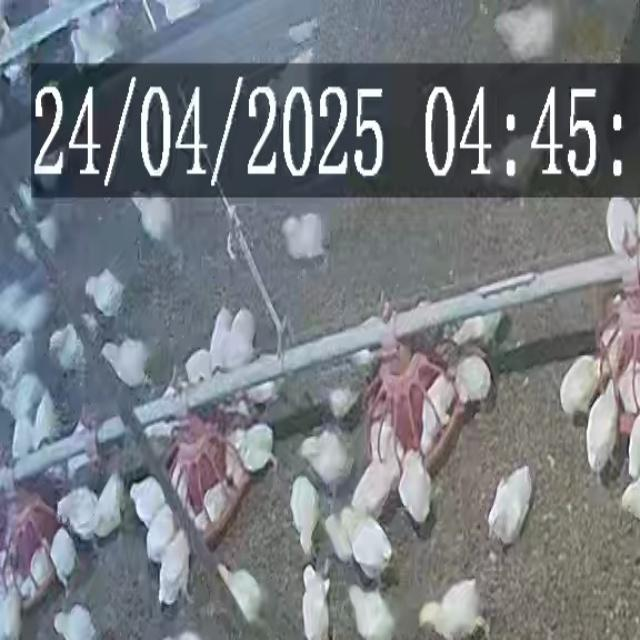chicken: (418, 578, 486, 640), (494, 3, 560, 62), (481, 133, 543, 194), (340, 507, 394, 577), (487, 464, 532, 547), (216, 562, 267, 632), (299, 428, 350, 490), (70, 7, 124, 64), (346, 582, 398, 640), (587, 375, 616, 473), (98, 337, 150, 390), (397, 452, 432, 530), (559, 355, 601, 419), (289, 477, 321, 558), (422, 371, 454, 451), (353, 459, 398, 515), (162, 525, 191, 607), (82, 266, 126, 319), (58, 486, 100, 541), (232, 422, 276, 473), (285, 215, 331, 262), (300, 566, 330, 638), (128, 474, 168, 528), (131, 196, 174, 246), (453, 311, 505, 352), (454, 354, 494, 406), (1, 333, 38, 388), (28, 390, 56, 460), (48, 528, 79, 590), (605, 198, 637, 258), (48, 321, 85, 372), (209, 305, 233, 383), (3, 373, 45, 417), (227, 308, 253, 378), (98, 469, 124, 538), (52, 602, 98, 640), (241, 364, 280, 407), (205, 472, 234, 527), (145, 504, 172, 562), (371, 424, 401, 470), (154, 0, 204, 25), (327, 385, 359, 420), (183, 349, 212, 387)
